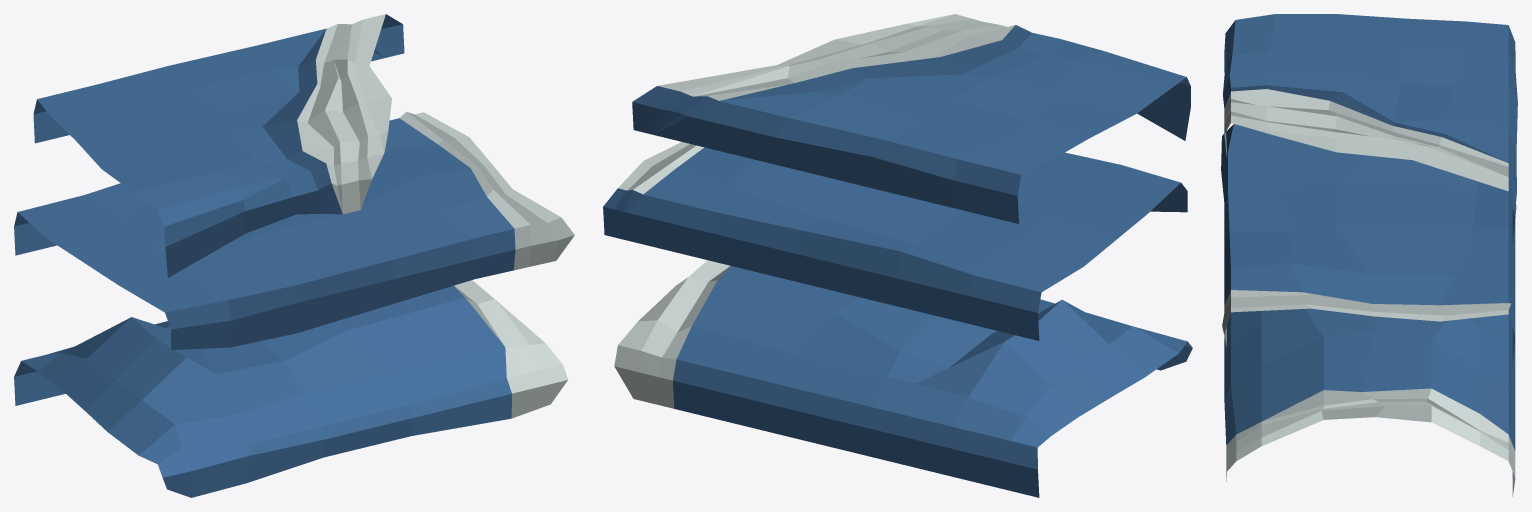
Rendered from quilts.fbx.
The picture shows the model from 3 angles, left to right: view 1: azimuth 30°, elevation 25°; view 2: azimuth 150°, elevation 25°; view 3: azimuth 270°, elevation 25°; orthographic projection. The views are drawn at different scales.
Visible parts, largest first — view 1: quiltSleep, quiltNormal, quiltMessed; view 2: quiltSleep, quiltMessed, quiltNormal; view 3: quiltNormal, quiltMessed, quiltSleep.
Boxes of the visible parts, bbox=[...] form: quiltSleep: bbox=[14, 280, 567, 497]; quiltNormal: bbox=[14, 111, 574, 349]; quiltMessed: bbox=[33, 14, 404, 277]; quiltSleep: bbox=[614, 260, 1192, 497]; quiltMessed: bbox=[632, 14, 1190, 223]; quiltNormal: bbox=[603, 142, 1187, 340]; quiltNormal: bbox=[1221, 124, 1515, 362]; quiltMessed: bbox=[1223, 14, 1517, 244]; quiltSleep: bbox=[1224, 308, 1515, 496].
Bounding box in the file's own units: 20.6 × 14.46 × 12.82.
